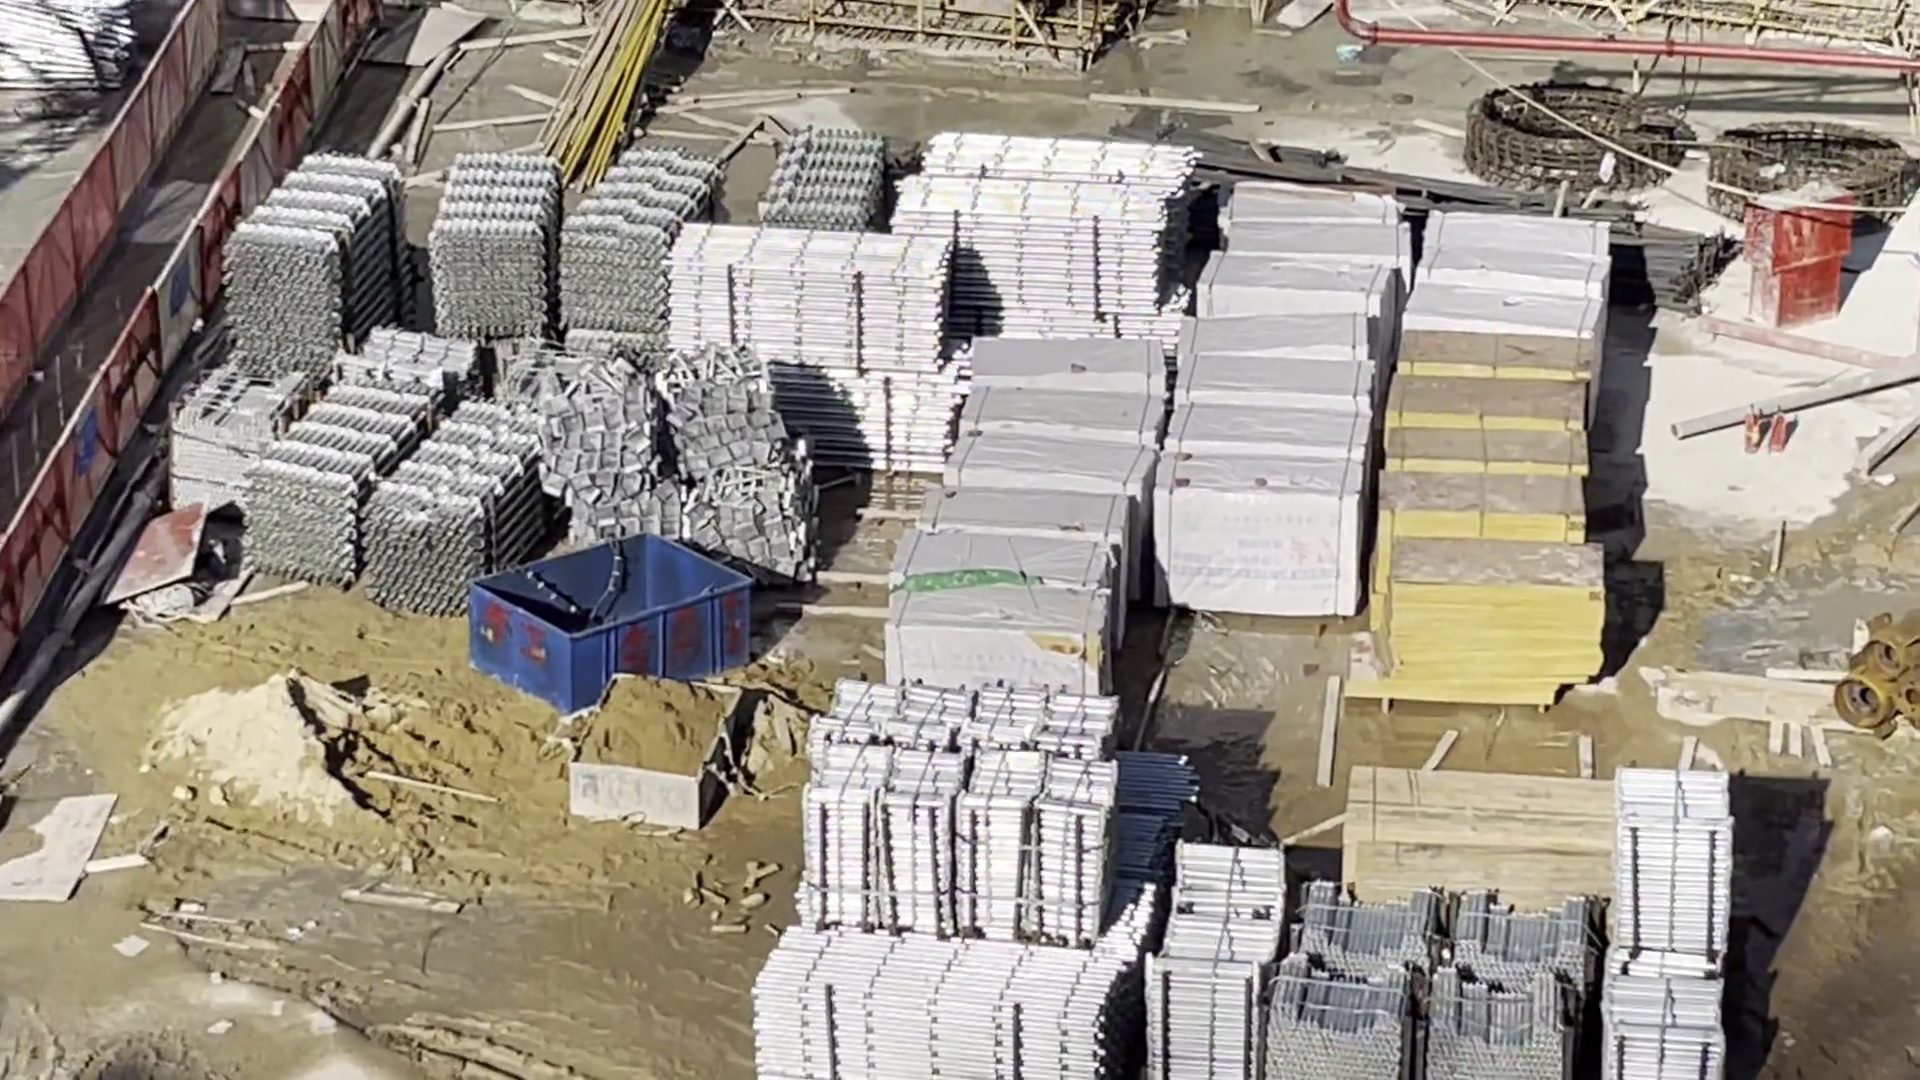board: (1379, 338, 1590, 707), (1358, 766, 1625, 901)
fence: (1, 1, 345, 670)
hopper: (471, 537, 748, 712), (570, 673, 742, 829)
rebar: (1193, 137, 1731, 297)
scaffold: (804, 683, 1120, 938), (673, 231, 952, 473), (899, 131, 1192, 343), (1266, 891, 1593, 1079), (256, 392, 538, 601), (756, 927, 1126, 1080), (436, 154, 719, 347), (228, 160, 411, 363), (1609, 773, 1731, 1073), (1164, 848, 1269, 1077), (762, 133, 887, 235), (1, 1, 127, 94)
slogan: (69, 396, 102, 480)
